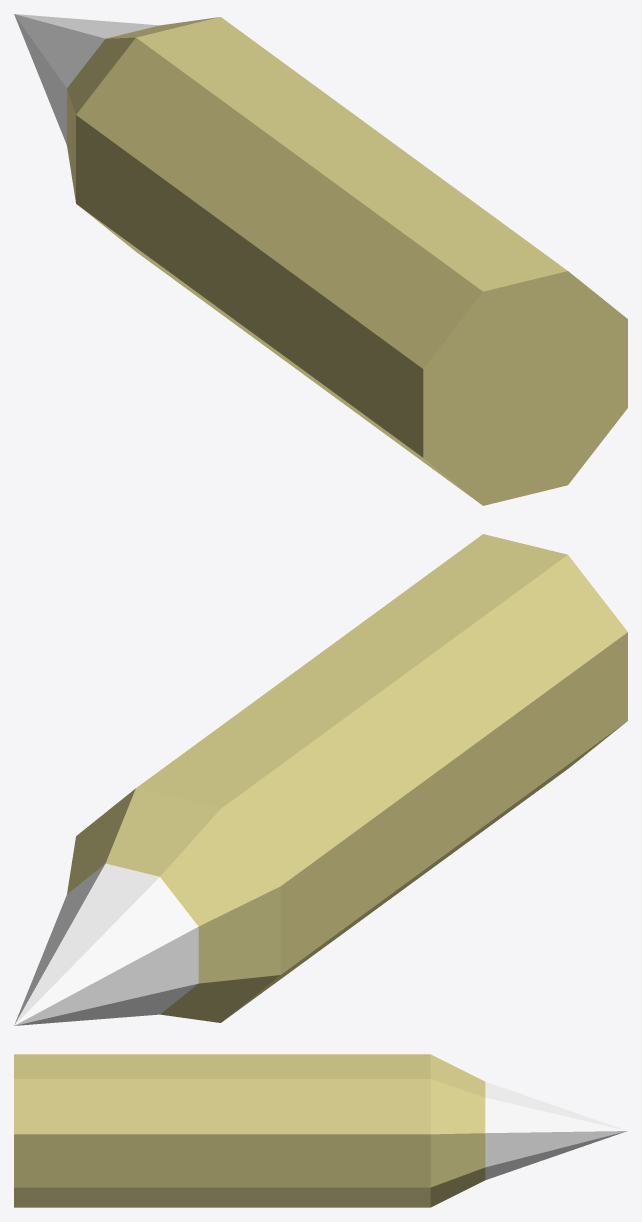
The model's file is ce_ammo_rifle_sabot_a.obj.
3 renders of one model, top to bottom at view 1: azimuth 30°, elevation 25°; view 2: azimuth 150°, elevation 25°; view 3: azimuth 270°, elevation 25°, orthographic. The views are drawn at different scales.
Visible parts, largest first — view 1: ce_ammo_rifle_sabot_a_0, ce_ammo_rifle_sabot_a_2, ce_ammo_rifle_sabot_a_1; view 2: ce_ammo_rifle_sabot_a_0, ce_ammo_rifle_sabot_a_1, ce_ammo_rifle_sabot_a_2; view 3: ce_ammo_rifle_sabot_a_0, ce_ammo_rifle_sabot_a_2, ce_ammo_rifle_sabot_a_1.
Boxes of the visible parts, x1=… form: ce_ammo_rifle_sabot_a_0: x1=76, y1=17, x2=627, y2=505; ce_ammo_rifle_sabot_a_2: x1=14, y1=14, x2=159, y2=144; ce_ammo_rifle_sabot_a_1: x1=67, y1=17, x2=219, y2=201; ce_ammo_rifle_sabot_a_0: x1=136, y1=534, x2=627, y2=1020; ce_ammo_rifle_sabot_a_1: x1=67, y1=788, x2=280, y2=1022; ce_ammo_rifle_sabot_a_2: x1=14, y1=863, x2=198, y2=1025; ce_ammo_rifle_sabot_a_0: x1=14, y1=1054, x2=430, y2=1207; ce_ammo_rifle_sabot_a_2: x1=485, y1=1081, x2=627, y2=1180; ce_ammo_rifle_sabot_a_1: x1=430, y1=1054, x2=485, y2=1207.
Size of the model in its own units: 0.1294 by 0.1294 by 0.56.
